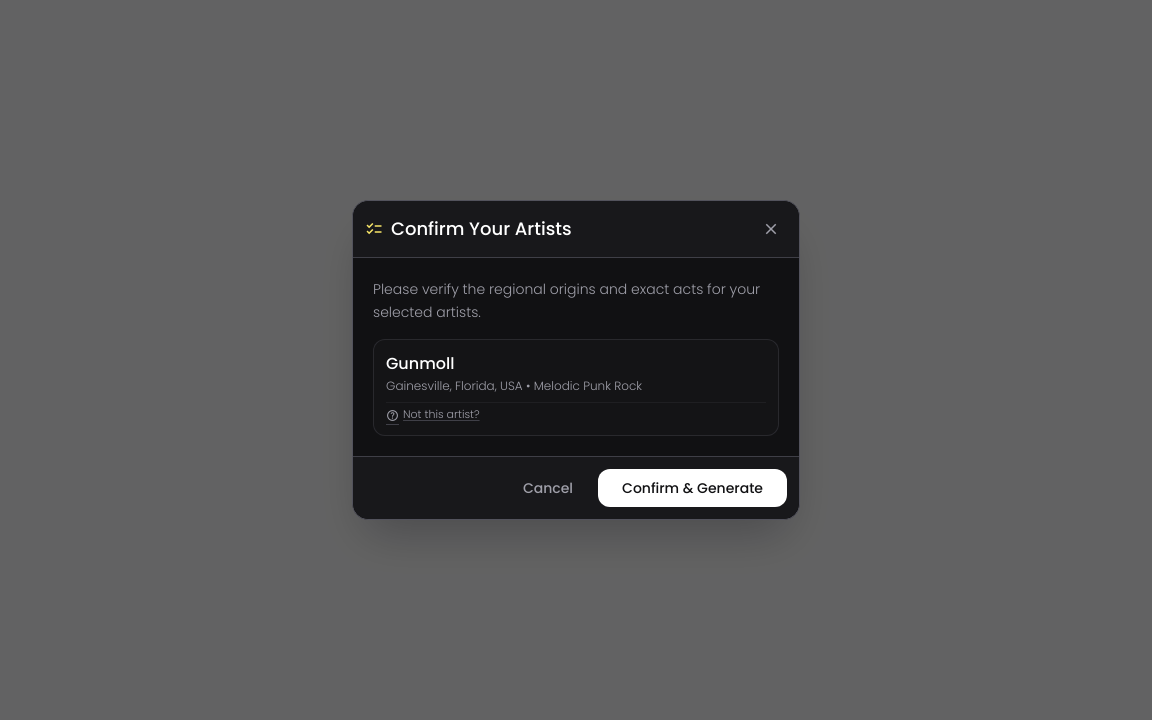
V15 Core Regression Suite (Integration) › Re-Query Bouncer: Blocks unverified escape hatch override when Flash rejects hints, shows inline error, and locks Confirm & Generate
The image size is (1152, 720).
expect the button with test id "validation-confirm-button" is enabled: met, box [598, 469, 787, 507]
// User clicks "Not this artist?" escape hatch
Click the button "Not this artist?" at (433, 415), box [386, 407, 480, 423]
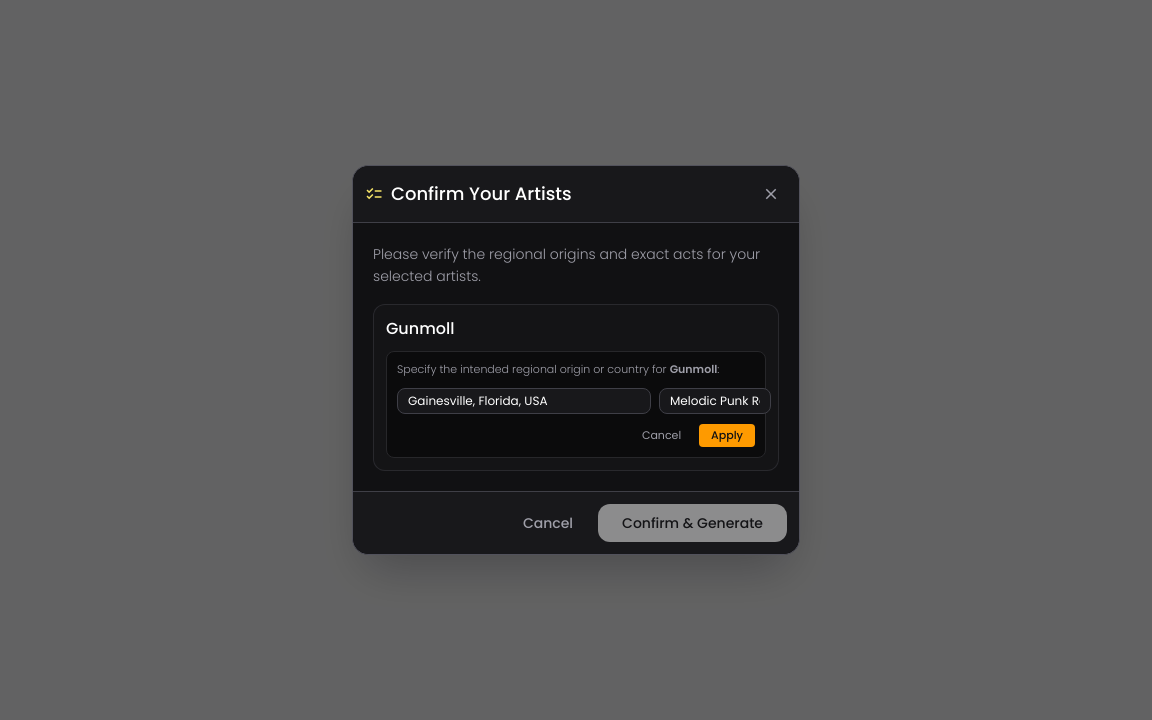
expect the button with test id "validation-confirm-button" is disabled: met, box [598, 504, 787, 542]
// User enters fake hints: "Japan" and "Jazz"
Replace the text in the 1st field with placeholder "e.g. United Kingdom, Australia, Chicago..." with "Japan" at (524, 401), box [397, 388, 651, 414]
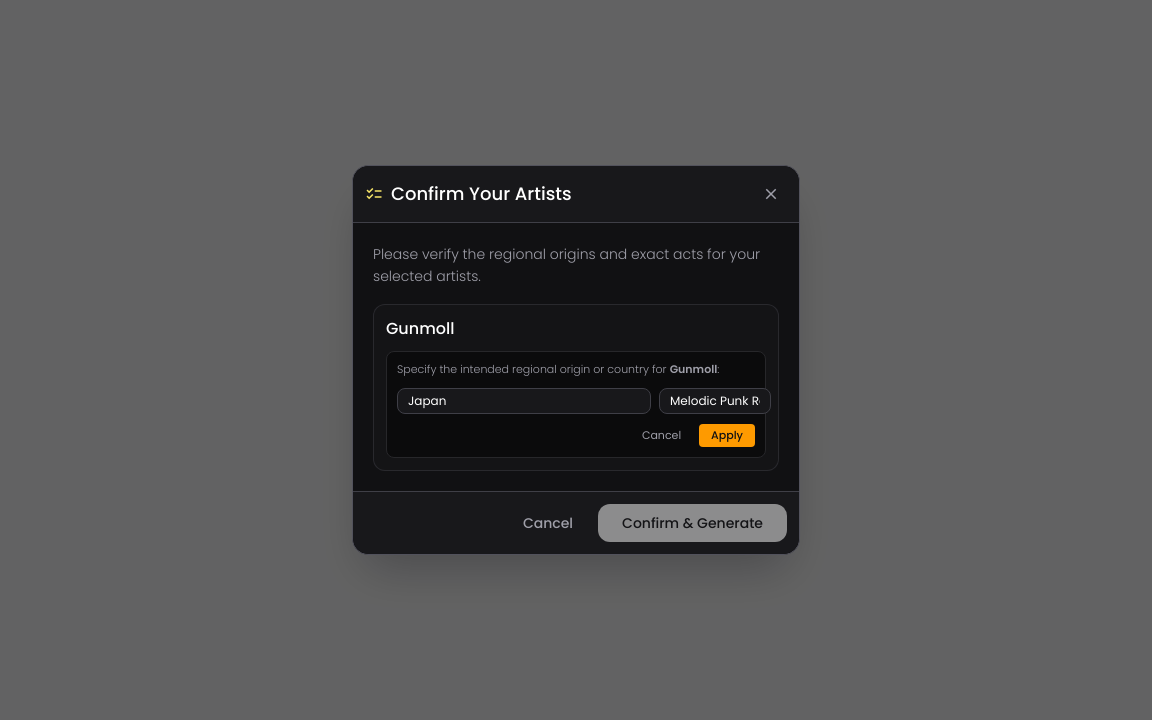
Replace the text in the 2nd field with placeholder "Genre (optional)" with "Jazz" at (715, 401), box [659, 388, 771, 414]
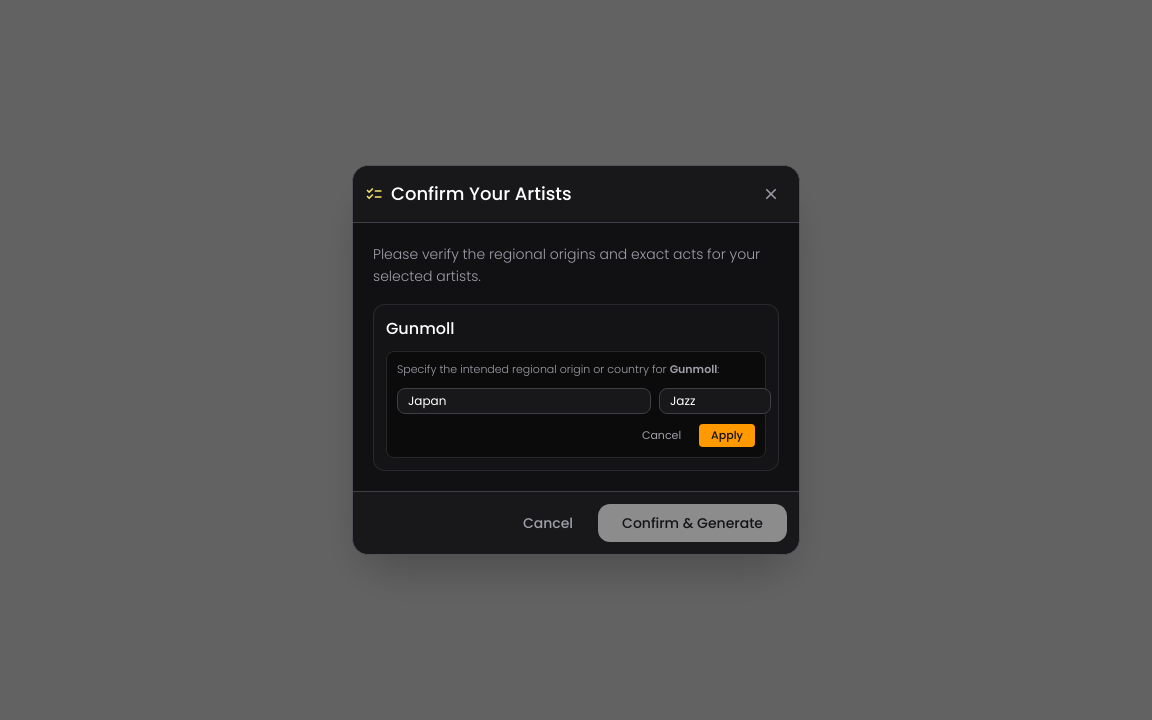
// User clicks "Apply"
Click the button "Apply" at (727, 436), box [699, 424, 755, 448]
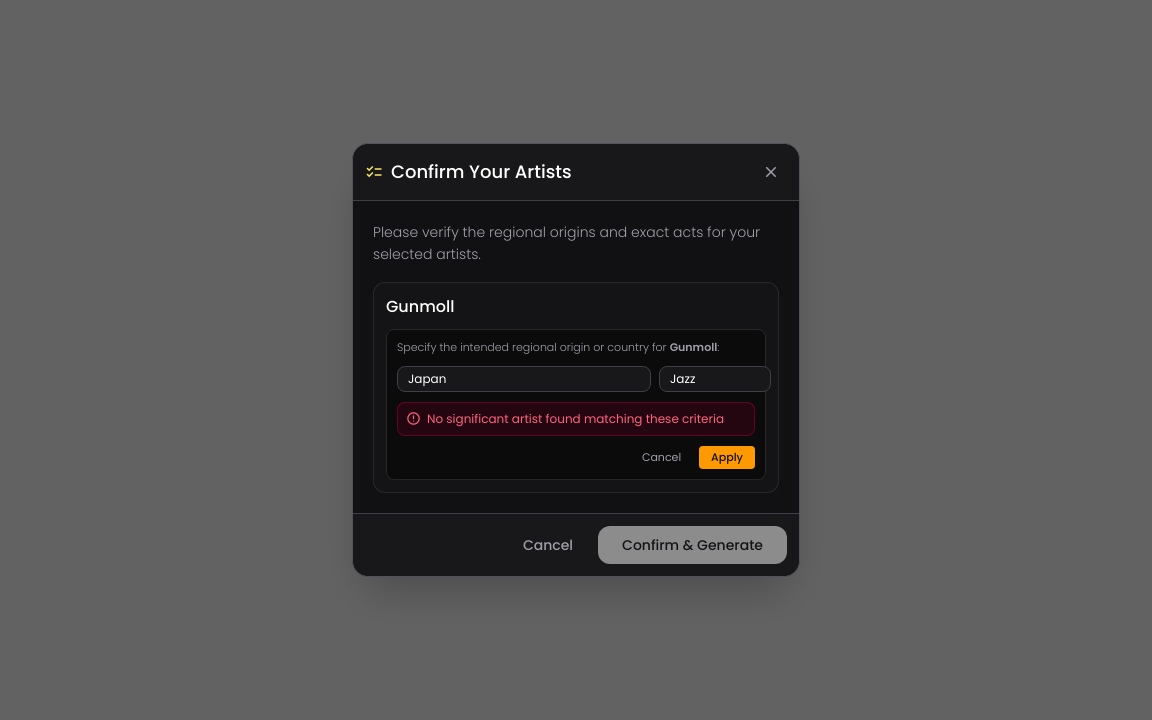
expect the button with test id "validation-confirm-button" is disabled: met, box [598, 526, 787, 564]
expect the element with test id "bouncer-error" reads "No significant artist found matching these criteria": met, box [427, 410, 724, 427]
